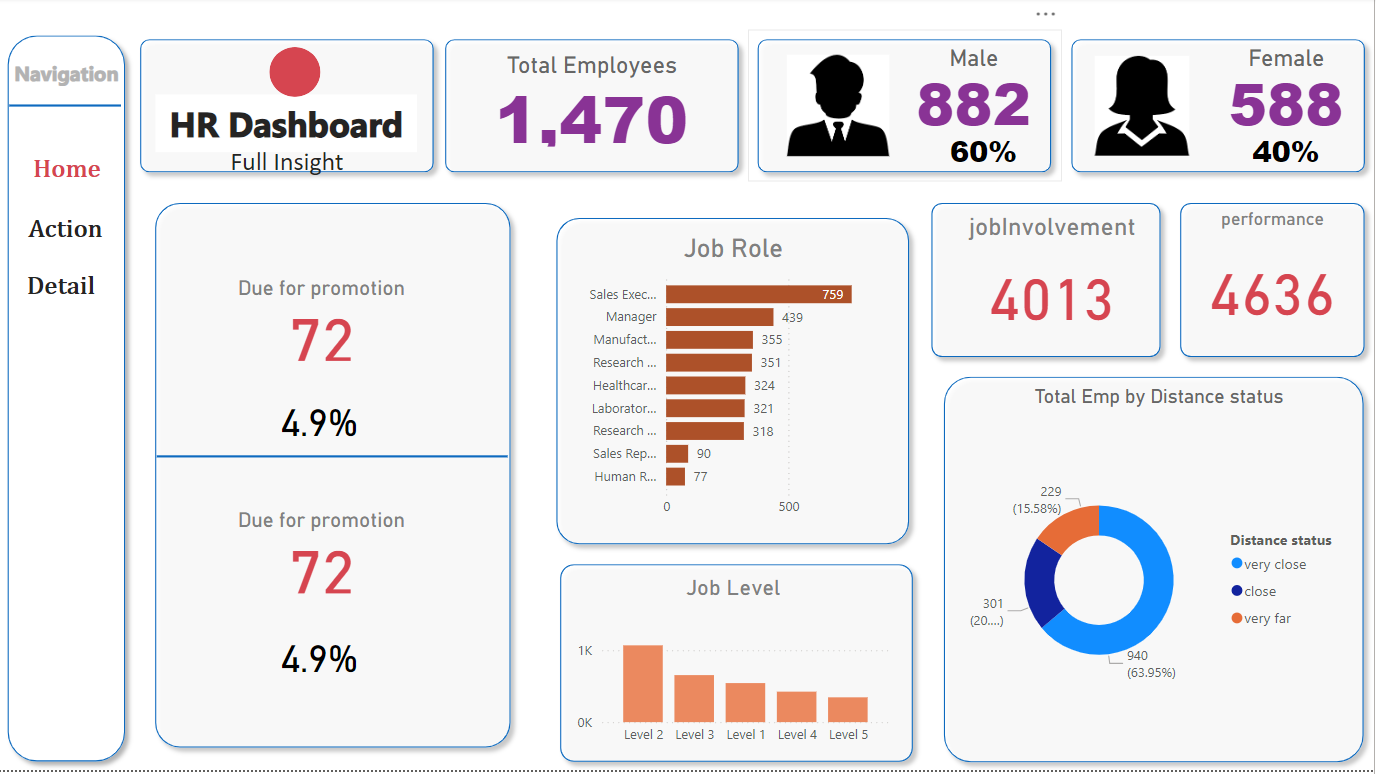

The dashboard page shown, as its layout file describes it:
{"tool":"powerbi","page":{"name":"Page 1","canvas":[1280,720],"ordinal":0},"visuals":[{"type":"shape","box":[0,26.9,127.2,693.3],"z":0},{"type":"shape","box":[123.5,30.6,291,141.8],"z":1000},{"type":"shape","box":[137,182.2,348.5,524.6],"z":2000},{"type":"shape","box":[509.9,196.9,346.1,321.6],"z":3000},{"type":"shape","box":[513.6,518.5,346.1,201.8],"z":4000},{"type":"shape","box":[859.7,182.2,231.1,161.4],"z":5000},{"type":"shape","box":[1090.8,182.2,189.5,161.4],"z":6000},{"type":"shape","box":[870.7,343.6,408.4,376.6],"z":7000},{"type":"shape","box":[407.2,30.6,291,141.8],"z":8000},{"type":"shape","box":[698.2,30.6,291,141.8],"z":9000},{"type":"shape","box":[989.3,30.6,291,141.8],"z":10000},{"type":"textbox","box":[159,132.1,218.9,40.4],"z":11000},{"type":"textbox","box":[146.7,90.5,243.3,53.8],"z":12000},{"type":"shape","box":[251.9,46.5,47.7,46.5],"z":13000},{"type":"card","title":"Total Employees","fields":{"Values":["New Measures.Total Emp"]},"box":[442.7,51.4,218.9,92.9],"z":14000},{"type":"card","title":"Male","fields":{"Values":["New Measures.Male"]},"box":[843.8,44,127.2,80.7],"z":15000},{"type":"card","title":"Male","fields":{"Values":["New Measures.% Male"]},"box":[871.9,124.7,89.3,39.1],"z":16000},{"type":"card","title":"Female","fields":{"Values":["New Measures.Female"]},"box":[1134.8,44,127.2,80.7],"z":17000},{"type":"card","title":"Male","fields":{"Values":["New Measures.% Female"]},"box":[1153.1,124.7,89.3,39.1],"z":18000},{"type":"image","box":[728.8,46.5,105.2,108.8],"z":19000},{"type":"image","box":[1007.6,50.1,112.5,102.7],"z":20000},{"type":"card","title":"due for promotion","fields":{"Values":["New Measures.% due for promotion"]},"box":[251.9,359.5,92.9,67.3],"z":21000},{"type":"card","title":"Due for promotion","fields":{"Values":["New Measures.Due for promotion"]},"box":[211.6,259.2,178.5,84.4],"z":22000},{"type":"card","title":"Due for promotion","fields":{"Values":["New Measures.Due for promotion"]},"box":[211.6,475.7,178.5,84.4],"z":23000},{"type":"card","title":"due for promotion","fields":{"Values":["New Measures.% due for promotion"]},"box":[251.9,579.6,92.9,67.3],"z":24000},{"type":"shape","box":[148,403.5,326.5,47.7],"z":25000},{"type":"clusteredBarChart","title":"Job Role","fields":{"Category":["HR Analytics Data.JobRole"],"Y":["Sum(HR Analytics Data.JobLevel)"]},"box":[533.2,220.1,300.8,272.7],"z":26000},{"type":"columnChart","title":"Job Level","fields":{"Category":["HR Analytics Data.Job Levels"],"Y":["Sum(HR Analytics Data.JobLevel)"]},"box":[533.2,536.8,300.8,167.5],"z":27000},{"type":"card","title":"jobInvolvement","fields":{"Values":["Sum(HR Analytics Data.JobInvolvement)"]},"box":[887.8,200.5,187.1,123.5],"z":28000},{"type":"card","title":"performance","fields":{"Values":["Sum(HR Analytics Data.PerformanceRating)"]},"box":[1110.3,196.9,150.4,127.2],"z":29000},{"type":"donutChart","fields":{"Category":["HR Analytics Data.Distance status"],"Y":["New Measures.Total Emp"]},"box":[897.6,360.7,364.4,343.6],"z":30000},{"type":"textbox","box":[0,53.8,127.2,44],"z":31000},{"type":"shape","box":[11,69.7,103.9,62.4],"z":32000},{"type":"textbox","box":[20.8,143.1,85.6,58.7],"z":33000},{"type":"textbox","box":[11,199.3,103.9,59.9],"z":34000},{"type":"textbox","box":[20.8,250.7,74.6,63.6],"z":35000}]}

Visuals, with their boxes in screenshot pixels (x1, y1, x2, y2), scaled from the page's 1280x720 canvas onto the 1376x774 screenshot:
shape: (x1=0, y1=29, x2=137, y2=773)
shape: (x1=133, y1=33, x2=446, y2=185)
shape: (x1=147, y1=196, x2=522, y2=760)
shape: (x1=548, y1=212, x2=920, y2=557)
shape: (x1=552, y1=557, x2=924, y2=773)
shape: (x1=924, y1=196, x2=1173, y2=369)
shape: (x1=1173, y1=196, x2=1375, y2=369)
shape: (x1=936, y1=369, x2=1375, y2=773)
shape: (x1=438, y1=33, x2=751, y2=185)
shape: (x1=751, y1=33, x2=1063, y2=185)
shape: (x1=1063, y1=33, x2=1375, y2=185)
textbox: (x1=171, y1=142, x2=406, y2=185)
textbox: (x1=158, y1=97, x2=419, y2=155)
shape: (x1=271, y1=50, x2=322, y2=100)
"Total Employees" card: (x1=476, y1=55, x2=711, y2=155)
"Male" card: (x1=907, y1=47, x2=1044, y2=134)
"Male" card: (x1=937, y1=134, x2=1033, y2=176)
"Female" card: (x1=1220, y1=47, x2=1357, y2=134)
"Male" card: (x1=1240, y1=134, x2=1336, y2=176)
image: (x1=783, y1=50, x2=897, y2=167)
image: (x1=1083, y1=54, x2=1204, y2=164)
"due for promotion" card: (x1=271, y1=386, x2=371, y2=459)
"Due for promotion" card: (x1=227, y1=279, x2=419, y2=369)
"Due for promotion" card: (x1=227, y1=511, x2=419, y2=602)
"due for promotion" card: (x1=271, y1=623, x2=371, y2=695)
shape: (x1=159, y1=434, x2=510, y2=485)
"Job Role" clusteredBarChart: (x1=573, y1=237, x2=897, y2=530)
"Job Level" columnChart: (x1=573, y1=577, x2=897, y2=757)
"jobInvolvement" card: (x1=954, y1=216, x2=1156, y2=348)
"performance" card: (x1=1194, y1=212, x2=1355, y2=348)
donutChart - HR Analytics Data.Distance status x New Measures.Total Emp: (x1=965, y1=388, x2=1357, y2=757)
textbox: (x1=0, y1=58, x2=137, y2=105)
shape: (x1=12, y1=75, x2=124, y2=142)
textbox: (x1=22, y1=154, x2=114, y2=217)
textbox: (x1=12, y1=214, x2=124, y2=279)
textbox: (x1=22, y1=270, x2=103, y2=338)
